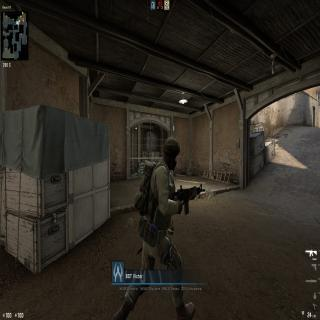CT-Head: (162, 134, 182, 173)
